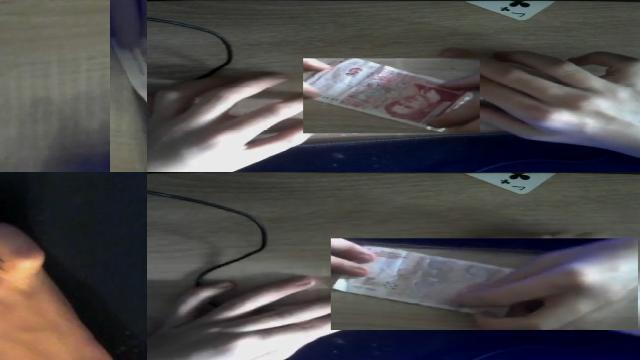5leva: (331, 238, 638, 330), (303, 58, 480, 133)
